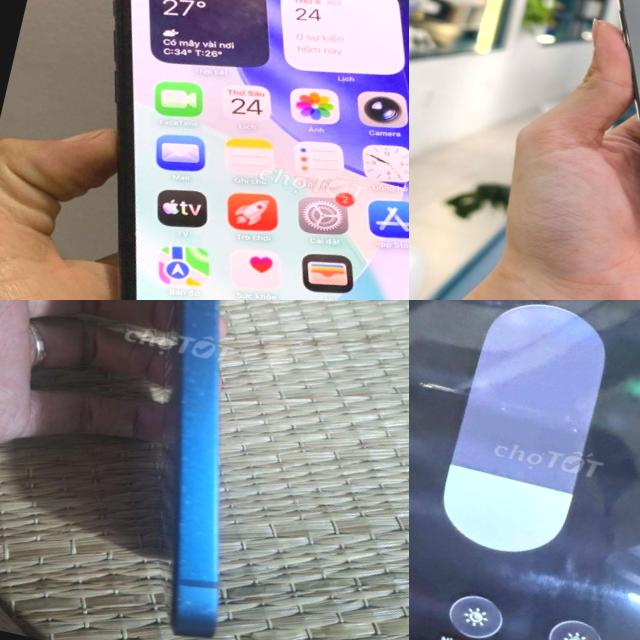scratch: (110, 300, 271, 597)
